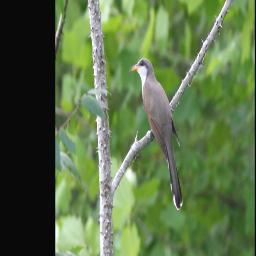Cuckoo: (129, 56, 185, 212)
